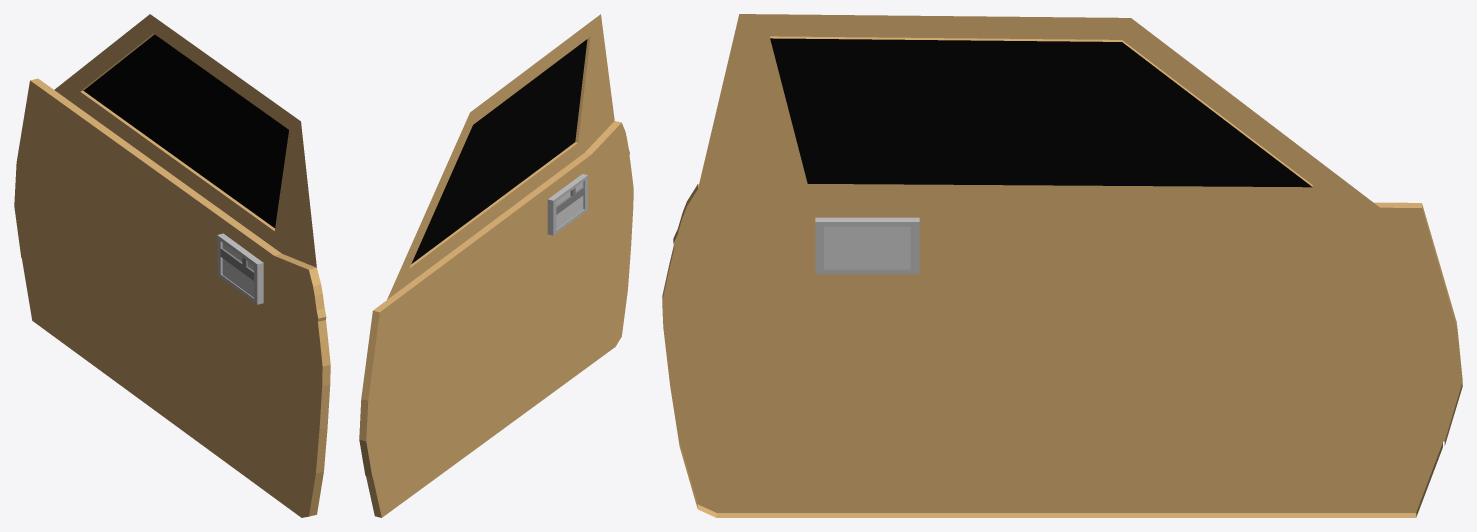
Rendered from porta_S.fbx.
The picture shows the model from 3 angles, left to right: view 1: azimuth 30°, elevation 25°; view 2: azimuth 150°, elevation 25°; view 3: azimuth 270°, elevation 25°; orthographic projection. The views are drawn at different scales.
Visible parts, largest first — view 1: Cube_1_3, Cube_7_6, Cube_7_5; view 2: Cube_1_3, Cube_7_6, Cube_7_5; view 3: Cube_1_3, Cube_7_5, Cube_7_6.
Part boxes in pixels (x1=…): Cube_1_3: x1=14, y1=14, x2=330, y2=517; Cube_7_6: x1=217, y1=233, x2=263, y2=304; Cube_7_5: x1=222, y1=243, x2=253, y2=297; Cube_1_3: x1=359, y1=14, x2=633, y2=517; Cube_7_6: x1=547, y1=174, x2=587, y2=235; Cube_7_5: x1=556, y1=182, x2=583, y2=229; Cube_1_3: x1=662, y1=14, x2=1462, y2=517; Cube_7_5: x1=824, y1=226, x2=910, y2=269; Cube_7_6: x1=815, y1=217, x2=919, y2=274.
Bounding box in the file's own units: 5.43 × 114 × 164.
